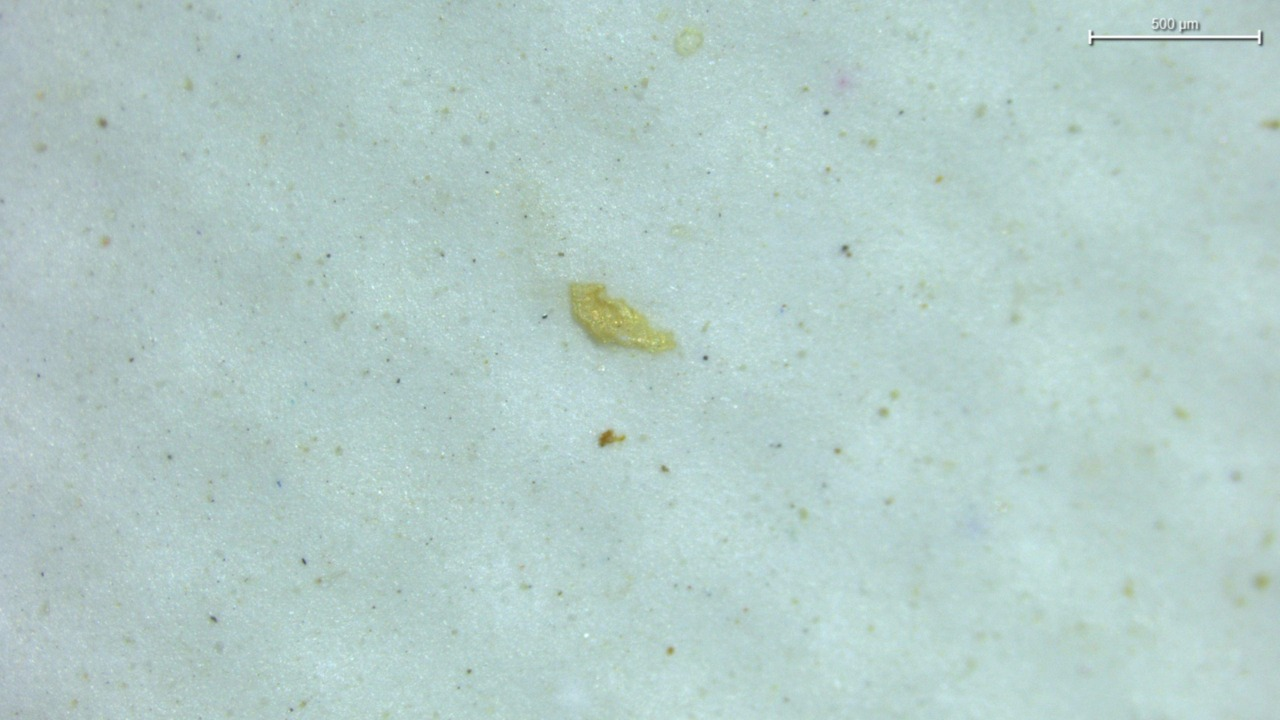microplastic_fragment: (570, 282, 675, 352)
